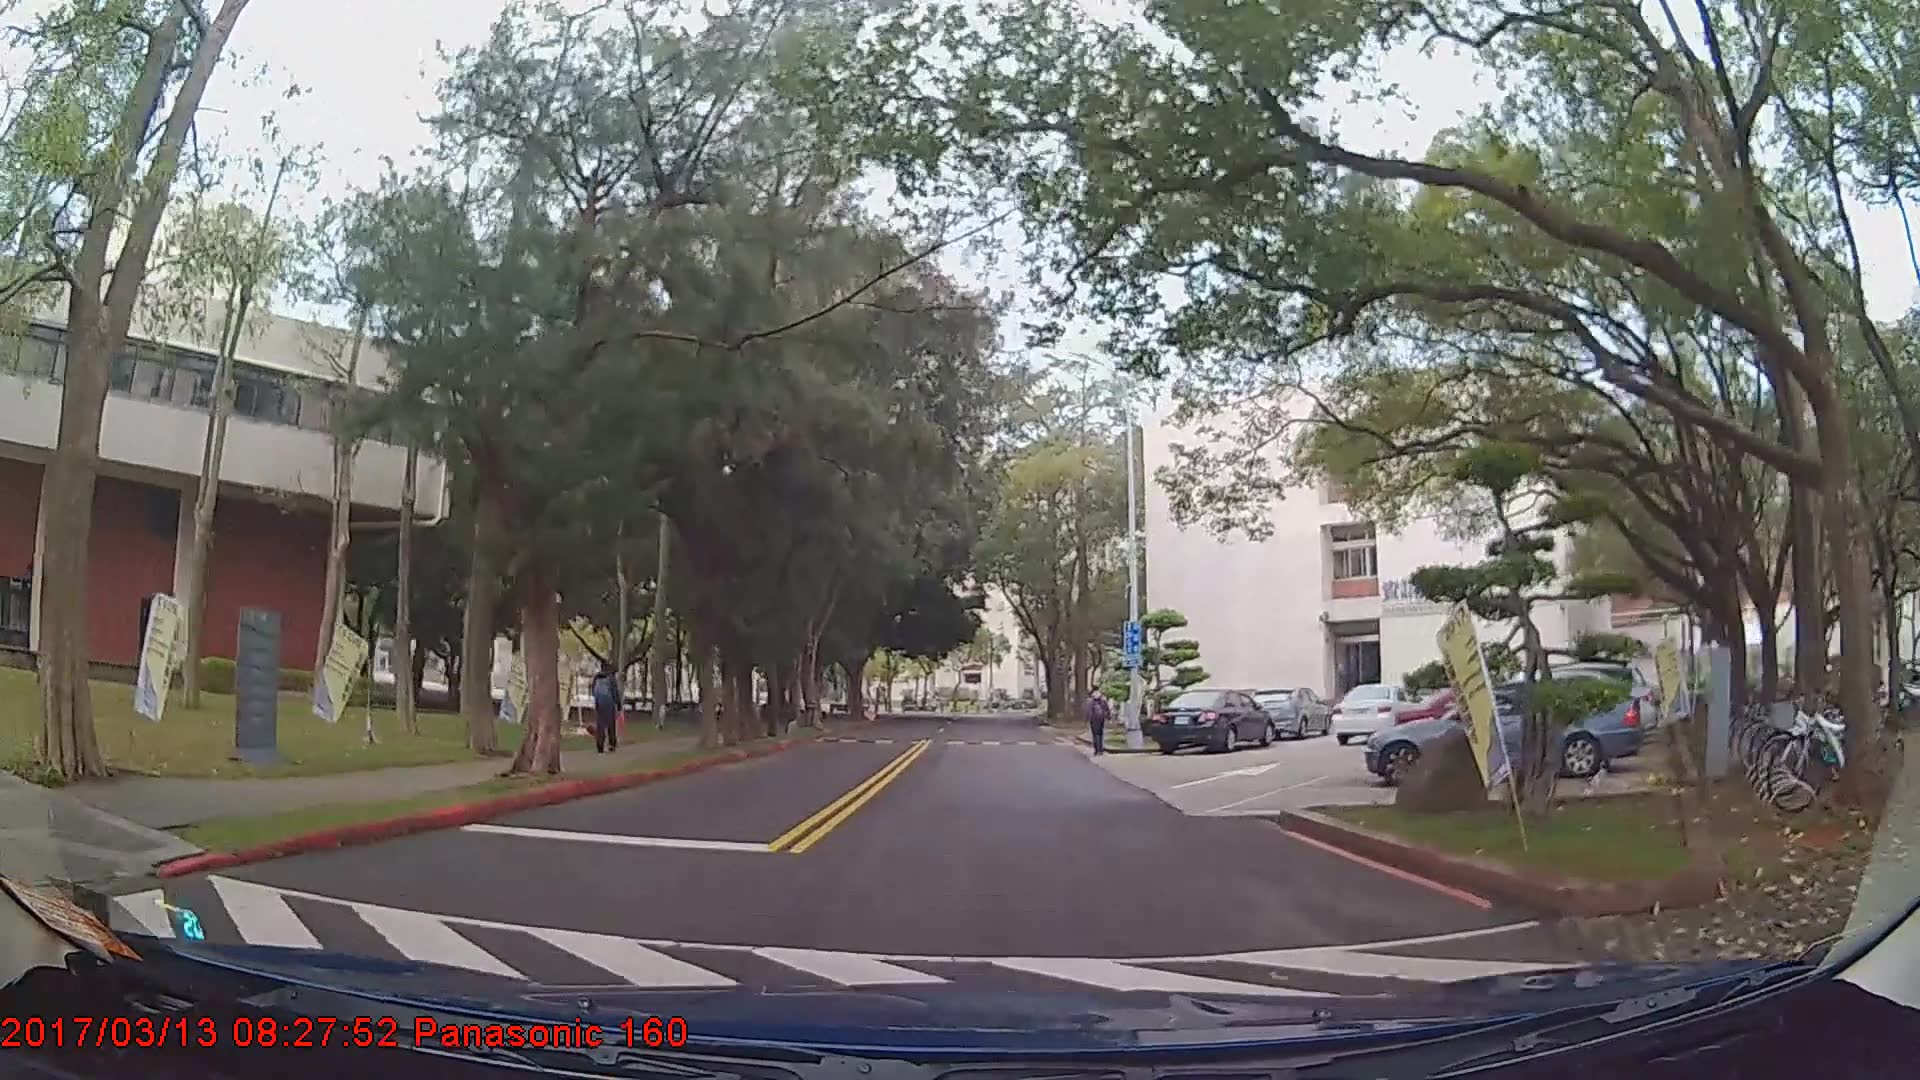pedestrian: (593, 663, 622, 755), (1086, 686, 1114, 759)
vehicle: (1362, 674, 1643, 787), (1148, 689, 1276, 756), (1331, 680, 1420, 744), (1251, 684, 1333, 739)
